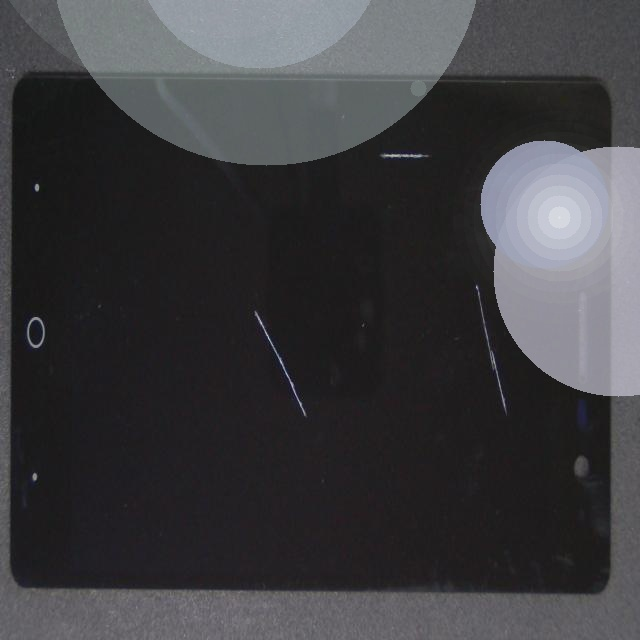scratch: (259, 117, 640, 397), (224, 45, 596, 192)
